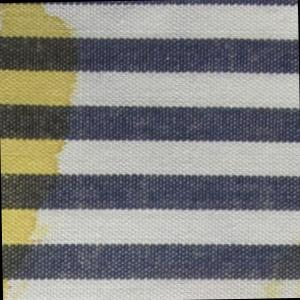Stain: (1, 2, 89, 300), (261, 244, 300, 299)
